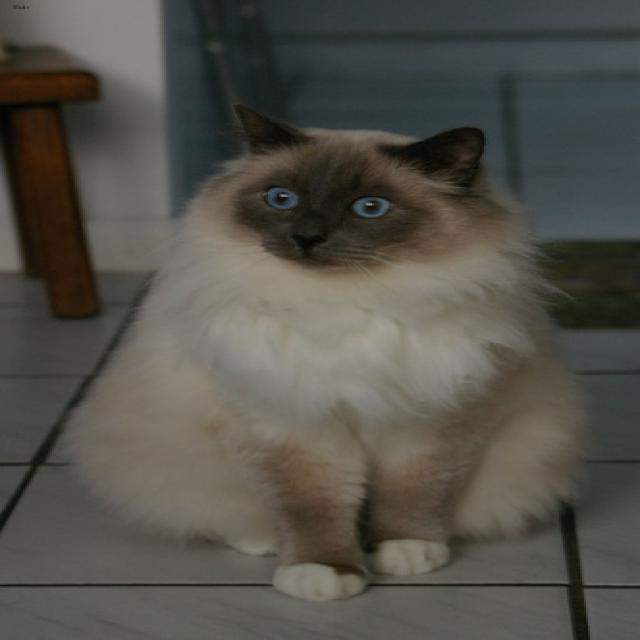Birman: (220, 102, 484, 279)
